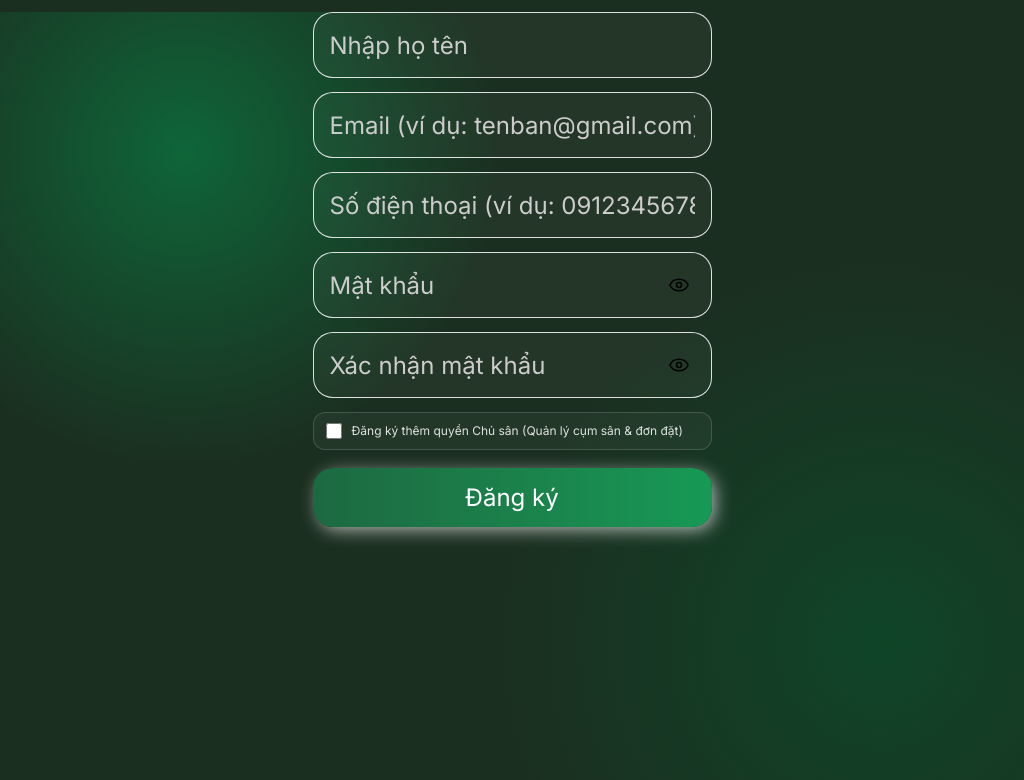
Test: RegisterForm › shows error when passwords don't match
Type "Nguyen Van A" into the field with placeholder "Nhập họ tên" at (512, 45), box [330, 13, 694, 77]
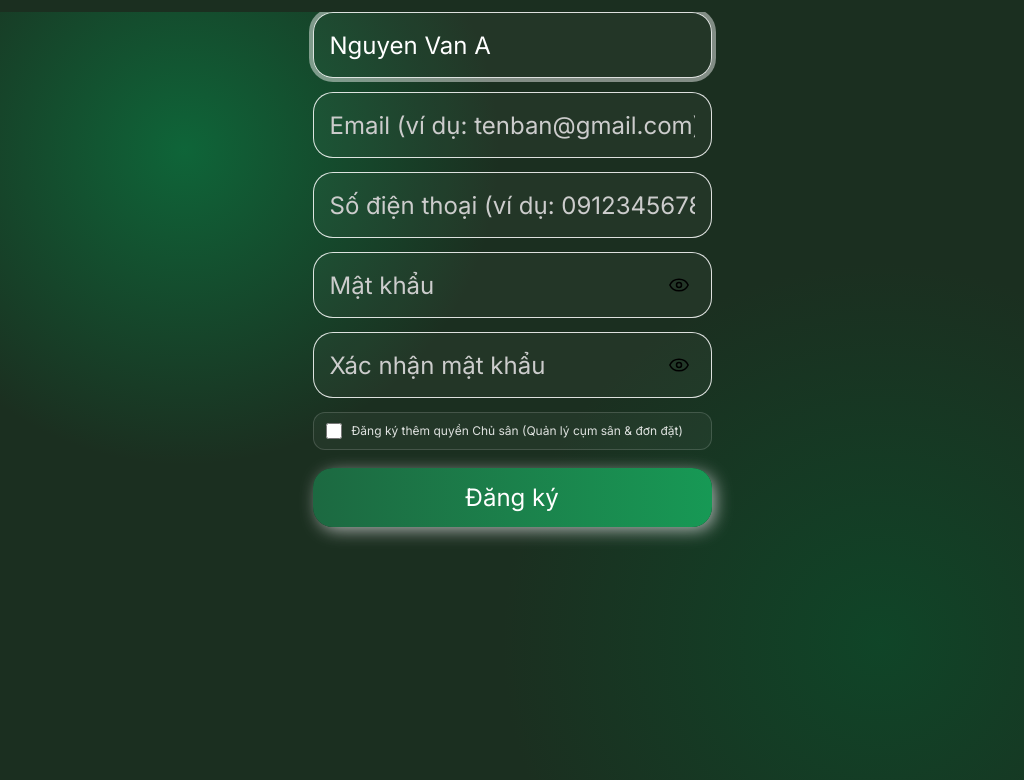
Type "test@example.com" into the field with placeholder "Email (ví dụ: tenban@gmail.com)" at (512, 125), box [330, 93, 694, 157]
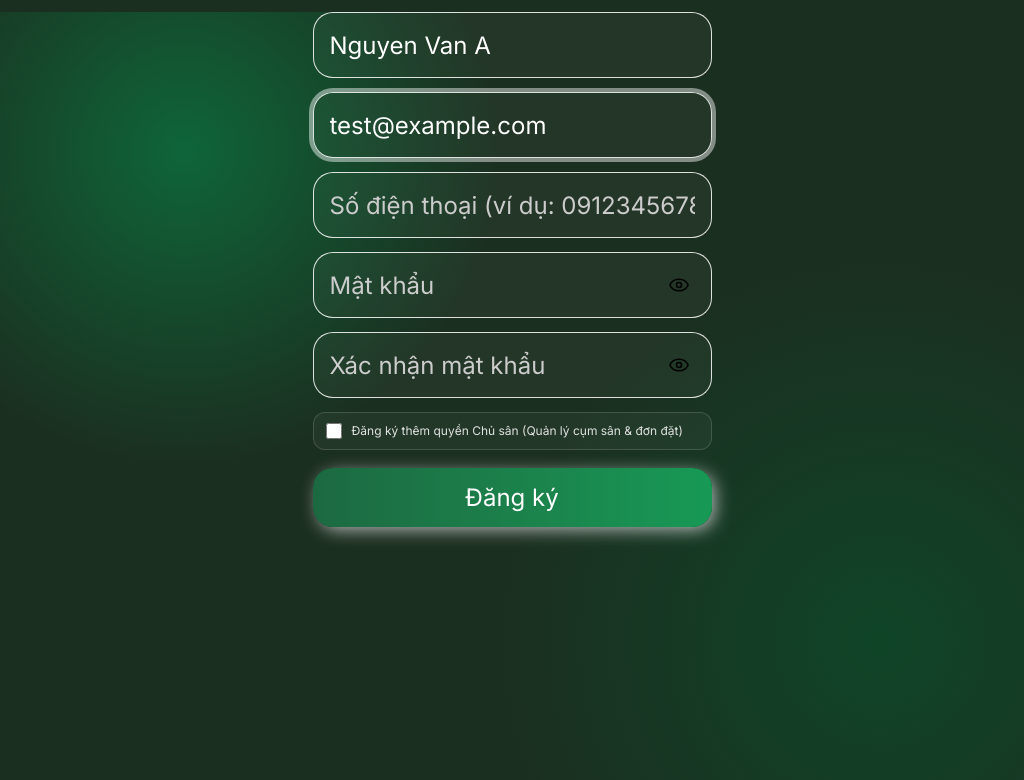
Type "password123" into the password field with placeholder "Mật khẩu" at (490, 285), box [330, 253, 650, 317]
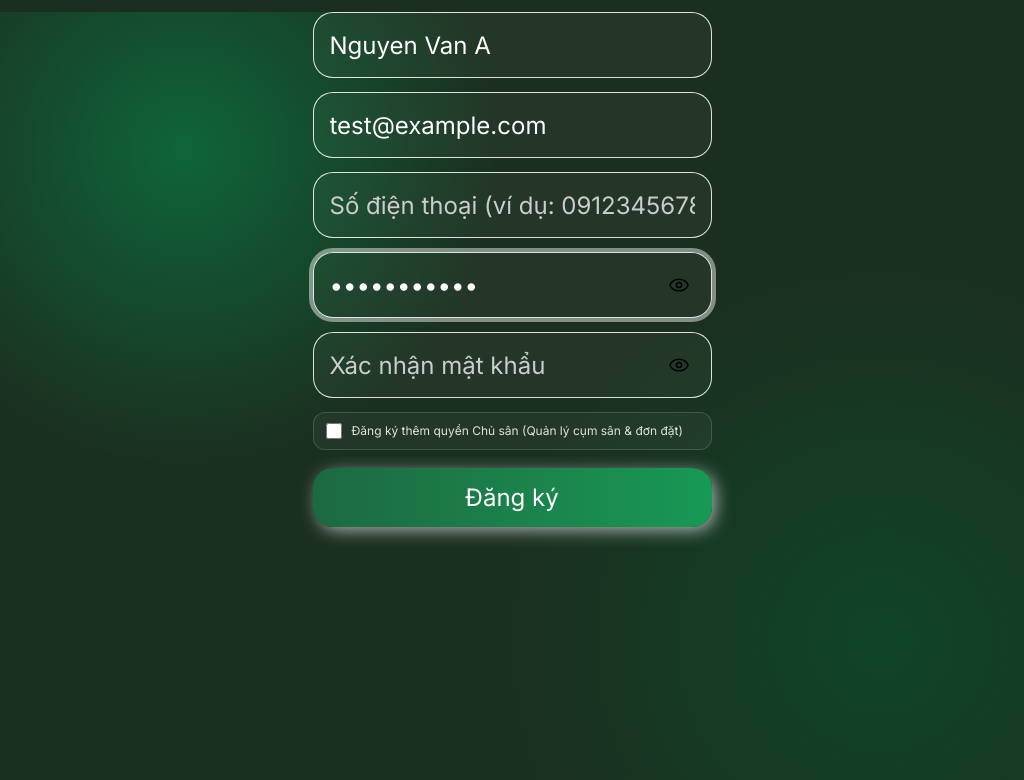
Type "different123" into the password field with placeholder "Xác nhận mật khẩu" at (490, 365), box [330, 333, 650, 397]
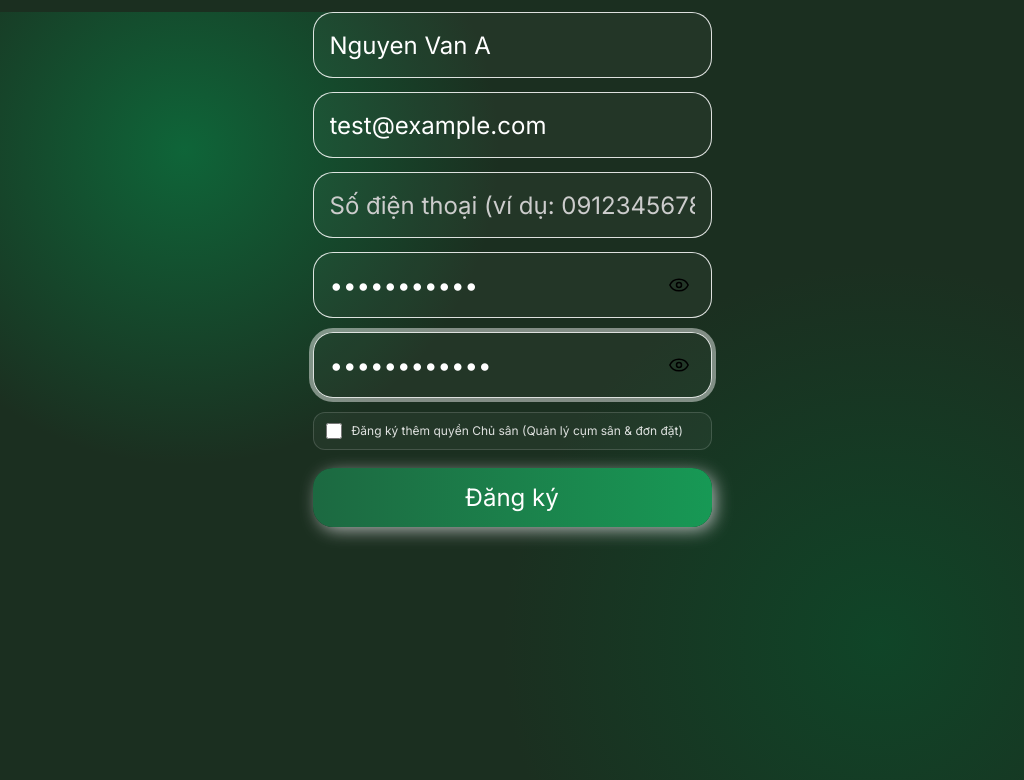
Click the button "Đăng ký" at (512, 498), box [312, 468, 712, 527]
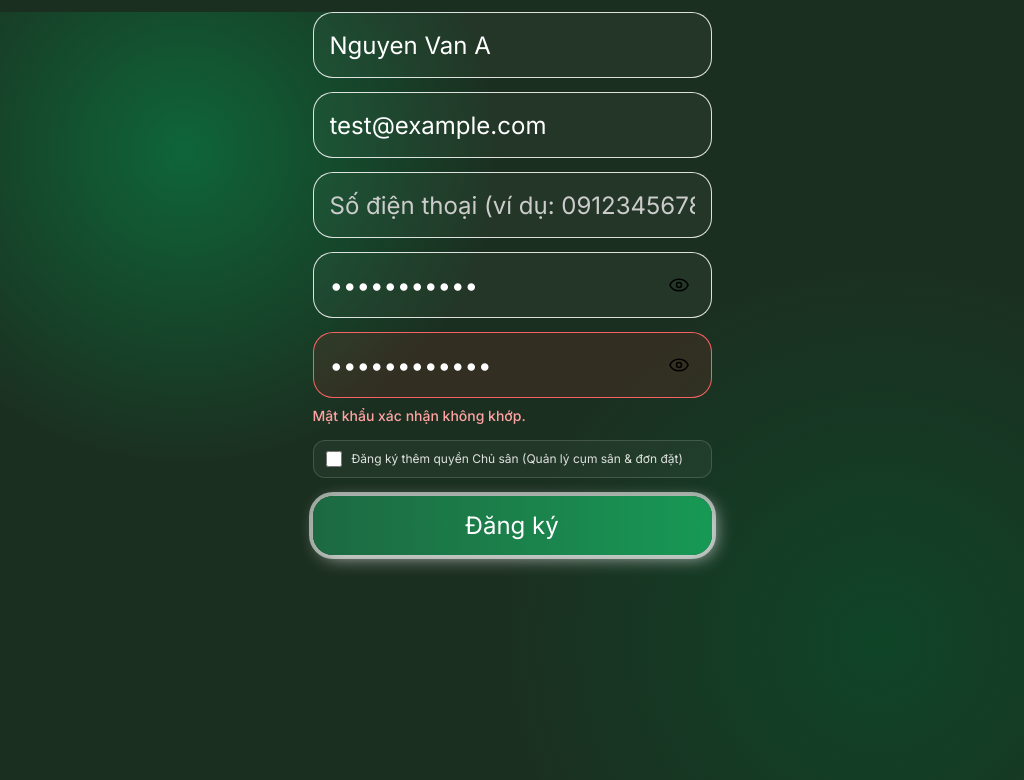
Now the text "Mật khẩu xác nhận không khớp." is shown, box [312, 407, 526, 424]
